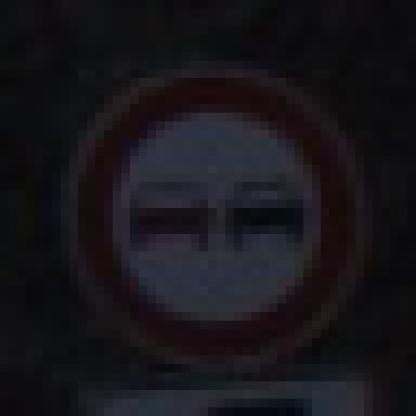No Overtaking: (53, 53, 374, 374)
